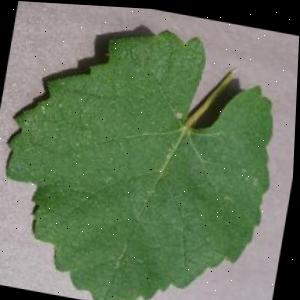Folha: (0, 3, 293, 300)
